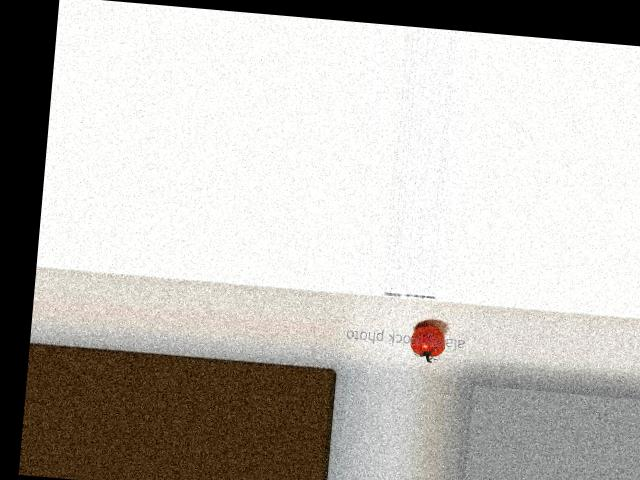tomato: (408, 323, 446, 358)
